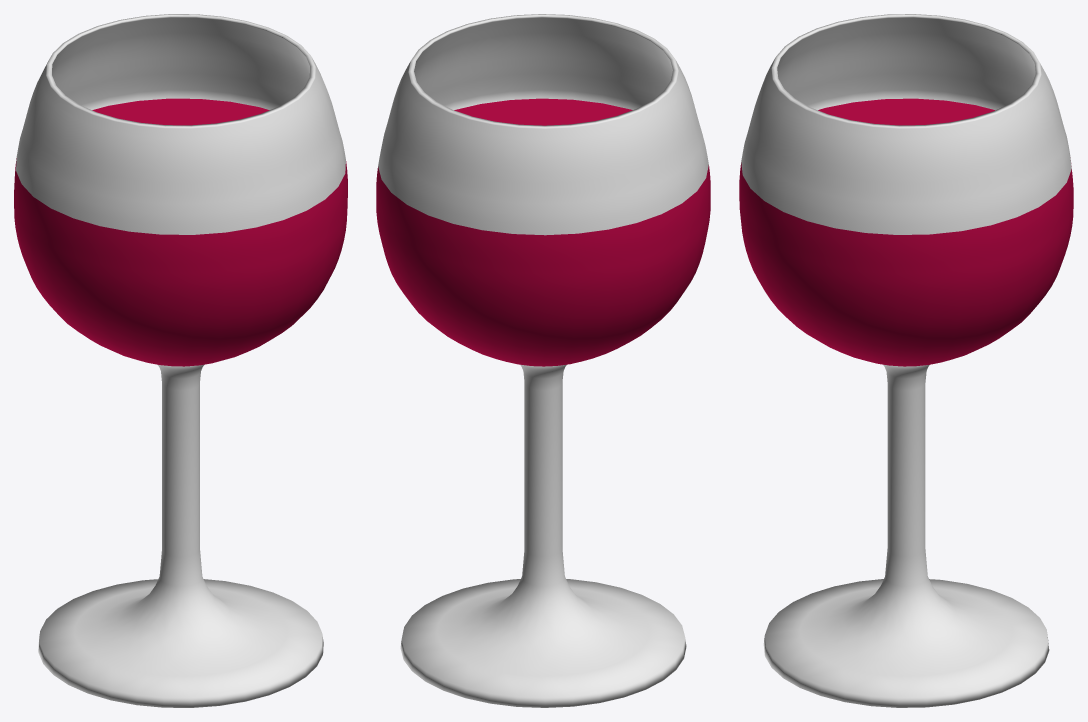
File: taca.glb
The picture shows the model from 3 angles, left to right: view 1: azimuth 30°, elevation 25°; view 2: azimuth 150°, elevation 25°; view 3: azimuth 270°, elevation 25°; orthographic projection.
Parts seen in each view (by area): view 1: Taca; view 2: Taca; view 3: Taca.
Boxes of the visible parts, <box> form: Taca: <box>14,14,347,707</box>; Taca: <box>376,14,710,707</box>; Taca: <box>739,14,1073,707</box>.
Size of the model in its own units: 0.3267 by 0.6224 by 0.3267.
